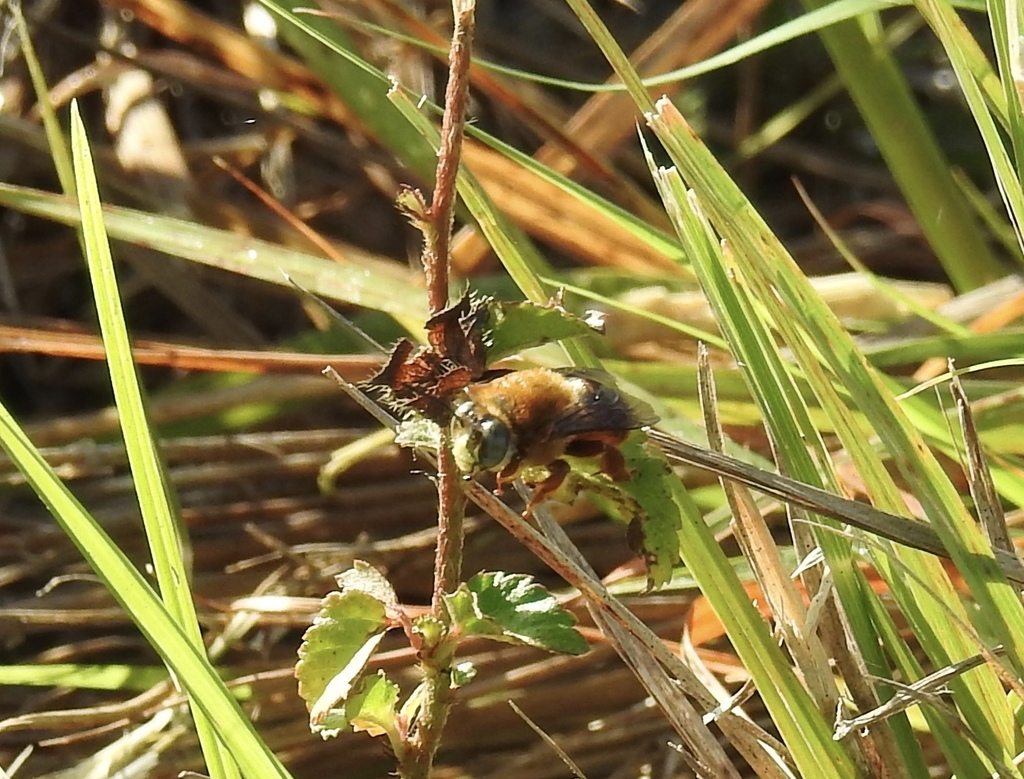not_bumblebee: (401, 363, 663, 518)
